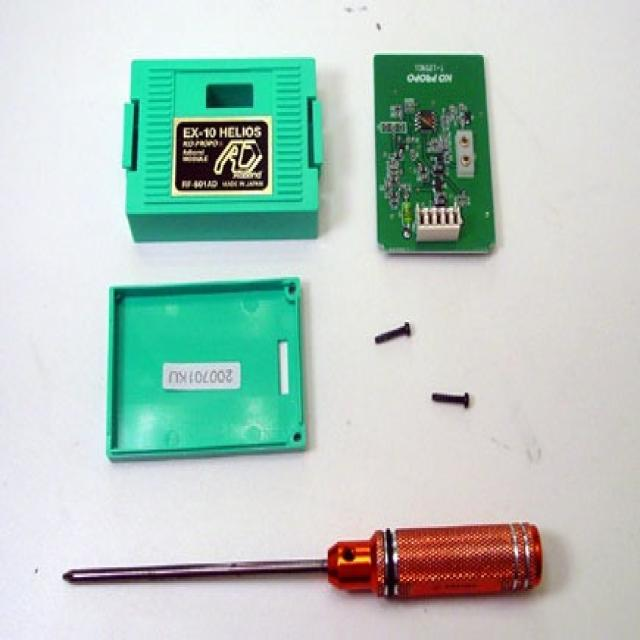screw driver: (45, 519, 555, 611)
